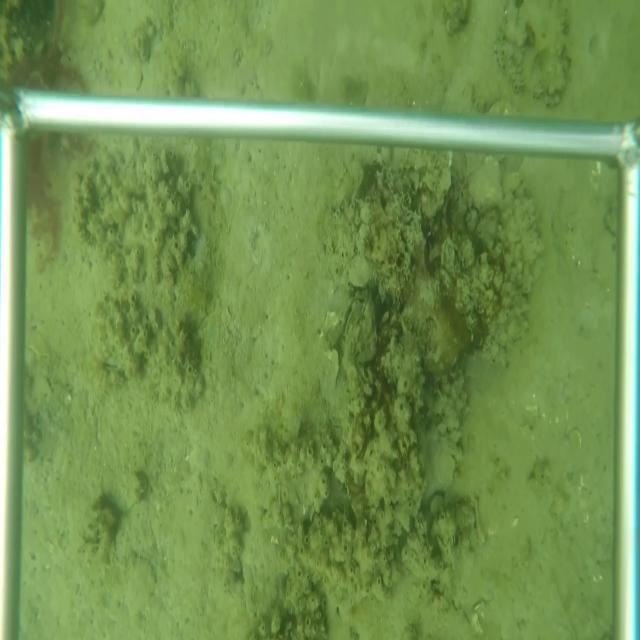Oyster-Open: (340, 300, 362, 341)
